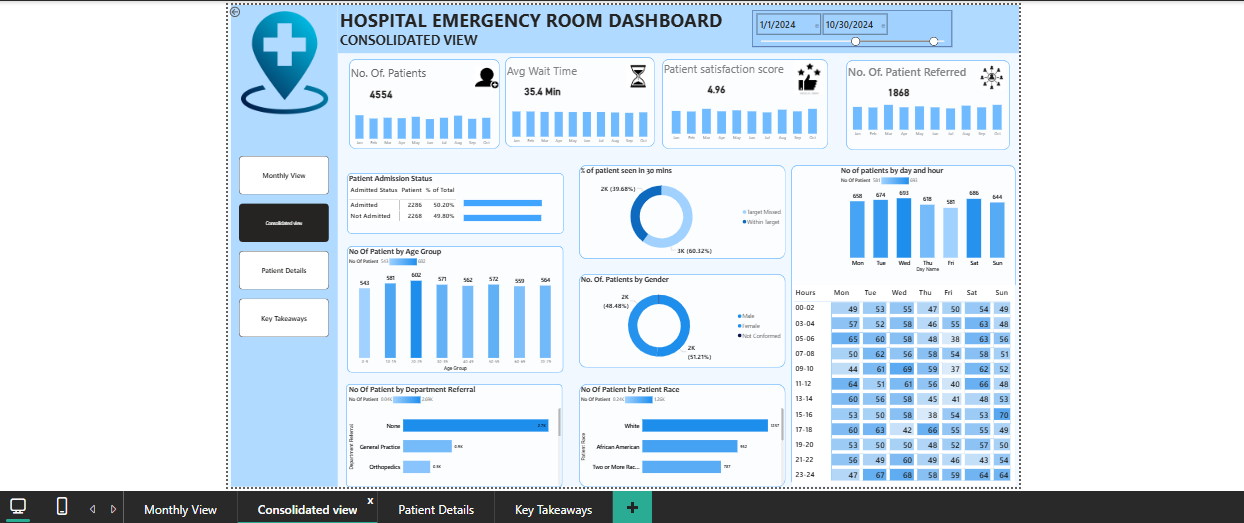

Layout of this report page (visuals, bound fields, positions):
{"tool":"powerbi","page":{"name":"Consolidated view","canvas":[2300,1400],"ordinal":1},"visuals":[{"type":"shape","box":[1020,464.4,600,273],"z":0},{"type":"donutChart","title":"% of patient seen in 30 mins","fields":{"Category":["Hospital ER_Data.Waittime status"],"Y":["Date Table.No Of Patient"]},"box":[1020,465.4,600,272.2],"z":1000},{"type":"shape","box":[9.1,0,310,1399],"z":2000},{"type":"shape","box":[319.9,0,1981,140],"z":3000},{"type":"textbox","box":[319.5,0,1263.5,84.2],"z":4000},{"type":"textbox","box":[319.5,69.7,429.9,69.7],"z":5000},{"type":"shape","box":[350,155.9,438.2,261.8],"z":6000},{"type":"card","fields":{"Values":["Date Table.No Of Patient"]},"box":[348.4,219.1,191.7,78.4],"z":7000},{"type":"slicer","fields":{"Values":["Date Table.Date"]},"box":[1522,14.5,580.9,107.5],"z":8000},{"type":"textbox","box":[350,167.6,250,61.8],"z":9000},{"type":"columnChart","fields":{"Y":["Date Table.No Of Patient"],"Category":["Date Table.Month Name"]},"box":[348.4,294.6,435.7,125],"z":10000},{"type":"shape","box":[805.9,150,435.3,261.8],"z":11000},{"type":"card","fields":{"Values":["Date Table.Avg Wait Time"]},"box":[805.2,211.1,217.8,75.5],"z":12000},{"type":"textbox","box":[805.9,161.8,267.6,67.6],"z":13000},{"type":"columnChart","fields":{"Category":["Date Table.Month Name"],"Y":["Avg(Hospital ER_Data.Patient Waittime)"]},"box":[805.2,286.6,435.7,125],"z":14000},{"type":"shape","box":[1261.3,156.6,482.4,261.8],"z":15000},{"type":"shape","box":[1794.1,158.8,476.5,261.8],"z":16000},{"type":"card","fields":{"Values":["Date Table.Satisfaction Score"]},"box":[1310.1,205.2,217.8,75.5],"z":17000},{"type":"columnChart","fields":{"Y":["Date Table.Satisfaction Score"],"Category":["Date Table.Month Name"]},"box":[1267.6,279.4,467.6,125],"z":18000},{"type":"textbox","box":[1261.8,155.9,367.6,61.8],"z":19000},{"type":"card","fields":{"Values":["Date Table.No of Patient referred"]},"box":[1837.2,214.6,217.8,75.5],"z":20000},{"type":"columnChart","fields":{"Y":["Date Table.Satisfaction Score"],"Category":["Date Table.Month Name"]},"box":[1793,267.4,479.1,125],"z":21000},{"type":"textbox","box":[1794.1,164.7,364.7,64.7],"z":22000},{"type":"actionButton","box":[0,0,100,40],"z":23000},{"type":"shape","box":[345.6,488,630,177],"z":24000},{"type":"pivotTable","title":"Patient Admission Status","fields":{"Rows":["Hospital ER_Data.Admitted Status"],"Values":["Date Table.No Of Patient1","Date Table.No Of Patient"]},"box":[345,487.5,630,177.5],"z":25000},{"type":"barChart","fields":{"Category":["Hospital ER_Data.Admitted Status"],"Y":["Date Table.No Of Patient"]},"box":[678.9,531.6,307.9,126.3],"z":26000},{"type":"shape","box":[344.7,700,628.9,368],"z":27000},{"type":"clusteredColumnChart","fields":{"Category":["Hospital ER_Data.Age Group"],"Y":["Date Table.No Of Patient"]},"box":[344.7,700,628.9,368.4],"z":28000},{"type":"shape","box":[342.1,1100,628.9,300],"z":29000},{"type":"clusteredBarChart","fields":{"Category":["Hospital ER_Data.Department Referral"],"Y":["Date Table.No Of Patient"]},"box":[344.7,1100,626.3,300],"z":30000},{"type":"shape","box":[1019.4,781.7,600,272.2],"z":31000},{"type":"donutChart","title":"No. Of. Patients by Gender","fields":{"Y":["Date Table.No Of Patient"],"Category":["Hospital ER_Data.Patient Gender"]},"box":[1019.4,781.7,600,272.2],"z":32000},{"type":"shape","box":[1019.4,1100,600,300],"z":33000},{"type":"clusteredBarChart","fields":{"Y":["Date Table.No Of Patient"],"Category":["Hospital ER_Data.Patient Race"]},"box":[1019.4,1100,600,300],"z":34000},{"type":"shape","box":[1636.1,463.9,652.8,933.3],"z":35000},{"type":"pivotTable","fields":{"Rows":["Hospital ER_Data.Waittime Interval"],"Columns":["Date Table.Day Name"],"Values":["Date Table.No Of Patient"]},"box":[1638.2,814.7,650,585.3],"z":36000},{"type":"columnChart","title":"No of patients by day and hour","fields":{"Category":["Date Table.Day Name"],"Y":["Date Table.No Of Patient"]},"box":[1773.5,464.7,514.7,317.6],"z":37000},{"type":"image","box":[716.1,173.4,67.6,76.5],"z":38000},{"type":"image","box":[1140.7,171.3,100,70.6],"z":39000},{"type":"image","box":[1634.8,162.5,105.9,97.1],"z":40000},{"type":"image","box":[2170.6,173.5,100,70.6],"z":41000},{"type":"image","box":[14.7,17.6,300,300],"z":42000},{"type":"pageNavigator","box":[32.4,438.2,261.8,526.5],"z":43000}]}

Visuals, with their boxes on the page's 2300x1400 design canvas (x1, y1, x2, y2). These are canvas units, not pixel positions in the 1244x523 screenshot, which may show the page scaled, cropped or inside an application window:
shape: (1020,464,1620,737)
"% of patient seen in 30 mins" donutChart: (1020,465,1620,738)
shape: (9,0,319,1399)
shape: (320,0,2301,140)
textbox: (320,0,1583,84)
textbox: (320,70,749,139)
shape: (350,156,788,418)
card - Date Table.No Of Patient: (348,219,540,298)
slicer - Date Table.Date: (1522,14,2103,122)
textbox: (350,168,600,229)
columnChart - Date Table.No Of Patient x Date Table.Month Name: (348,295,784,420)
shape: (806,150,1241,412)
card - Date Table.Avg Wait Time: (805,211,1023,287)
textbox: (806,162,1074,229)
columnChart - Date Table.Month Name x Avg(Hospital ER_Data.Patient Waittime): (805,287,1241,412)
shape: (1261,157,1744,418)
shape: (1794,159,2271,421)
card - Date Table.Satisfaction Score: (1310,205,1528,281)
columnChart - Date Table.Satisfaction Score x Date Table.Month Name: (1268,279,1735,404)
textbox: (1262,156,1629,218)
card - Date Table.No of Patient referred: (1837,215,2055,290)
columnChart - Date Table.Satisfaction Score x Date Table.Month Name: (1793,267,2272,392)
textbox: (1794,165,2159,229)
actionButton: (0,0,100,40)
shape: (346,488,976,665)
"Patient Admission Status" pivotTable: (345,488,975,665)
barChart - Hospital ER_Data.Admitted Status x Date Table.No Of Patient: (679,532,987,658)
shape: (345,700,974,1068)
clusteredColumnChart - Hospital ER_Data.Age Group x Date Table.No Of Patient: (345,700,974,1068)
shape: (342,1100,971,1400)
clusteredBarChart - Hospital ER_Data.Department Referral x Date Table.No Of Patient: (345,1100,971,1400)
shape: (1019,782,1619,1054)
"No. Of. Patients by Gender" donutChart: (1019,782,1619,1054)
shape: (1019,1100,1619,1400)
clusteredBarChart - Date Table.No Of Patient x Hospital ER_Data.Patient Race: (1019,1100,1619,1400)
shape: (1636,464,2289,1397)
pivotTable - Hospital ER_Data.Waittime Interval x Date Table.Day Name: (1638,815,2288,1400)
"No of patients by day and hour" columnChart: (1774,465,2288,782)
image: (716,173,784,250)
image: (1141,171,1241,242)
image: (1635,162,1741,260)
image: (2171,174,2271,244)
image: (15,18,315,318)
pageNavigator: (32,438,294,965)
